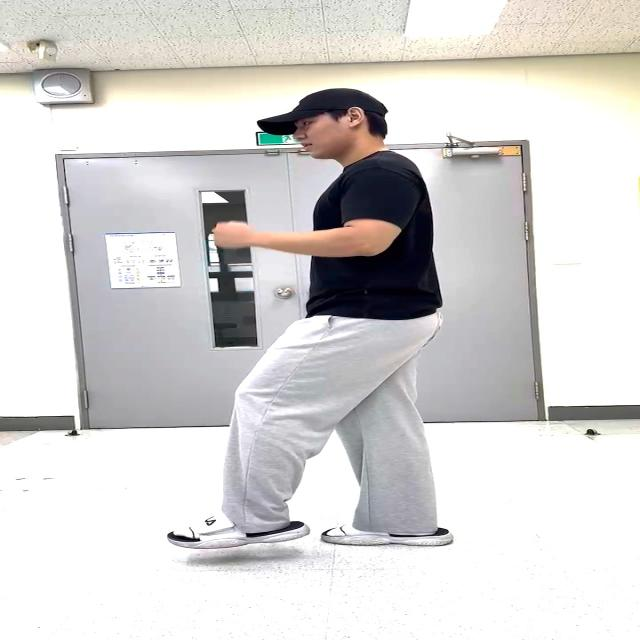leg: (192, 294, 380, 568)
